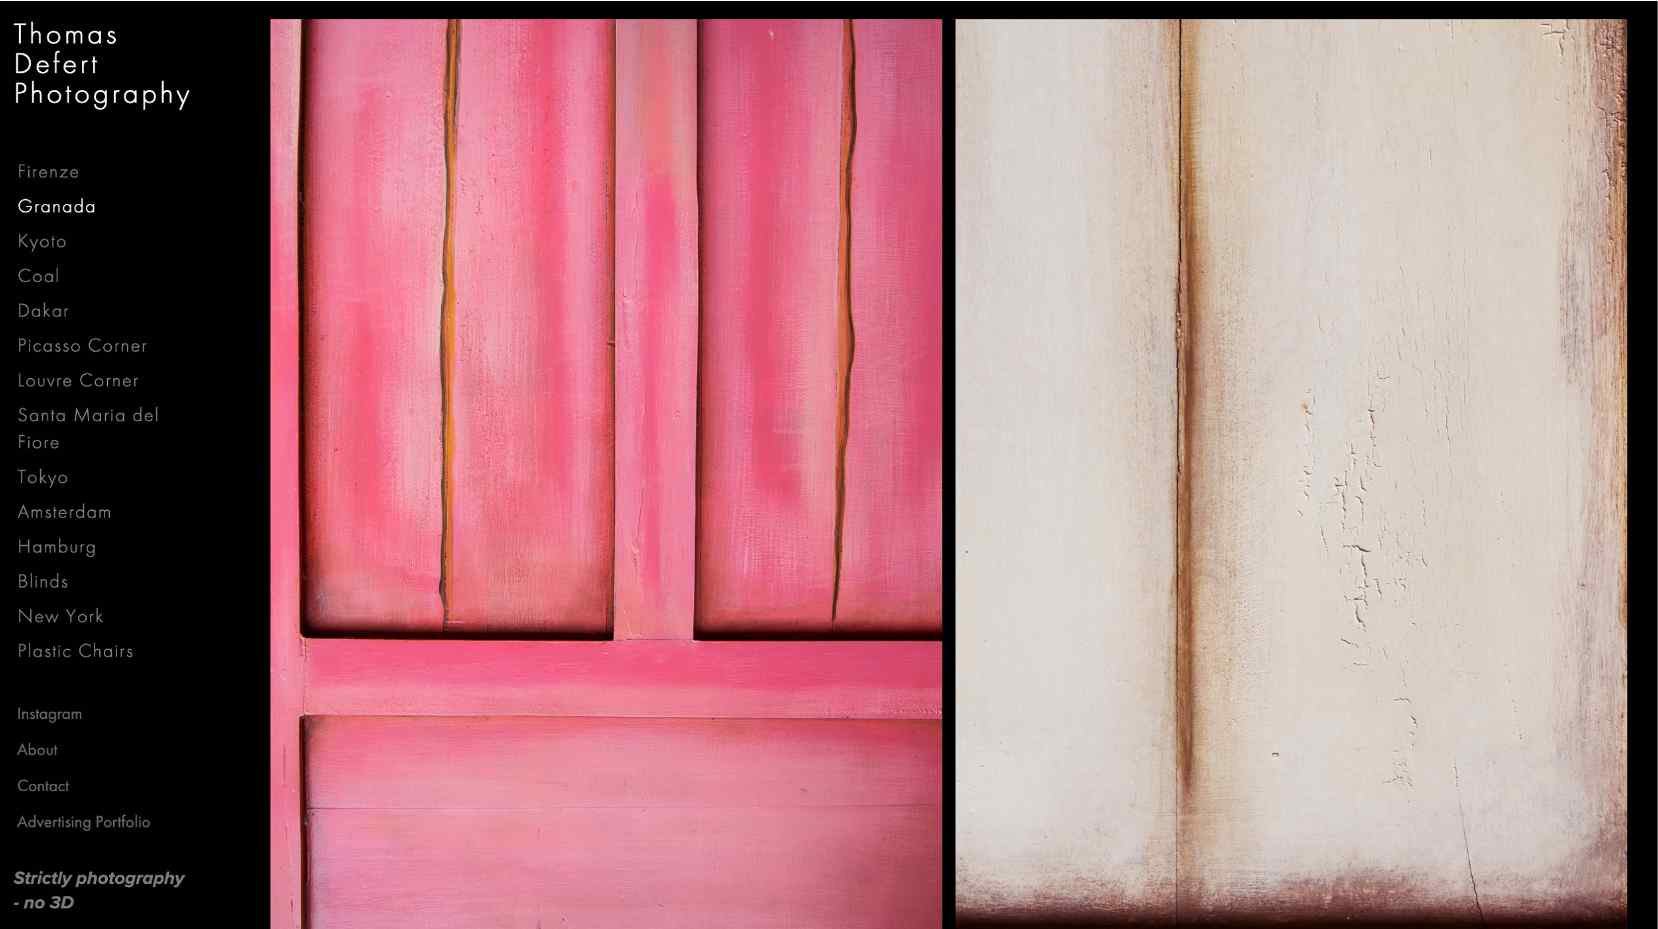Image: (266, 17, 1624, 919)
Side Bar: (5, 2, 266, 929)
